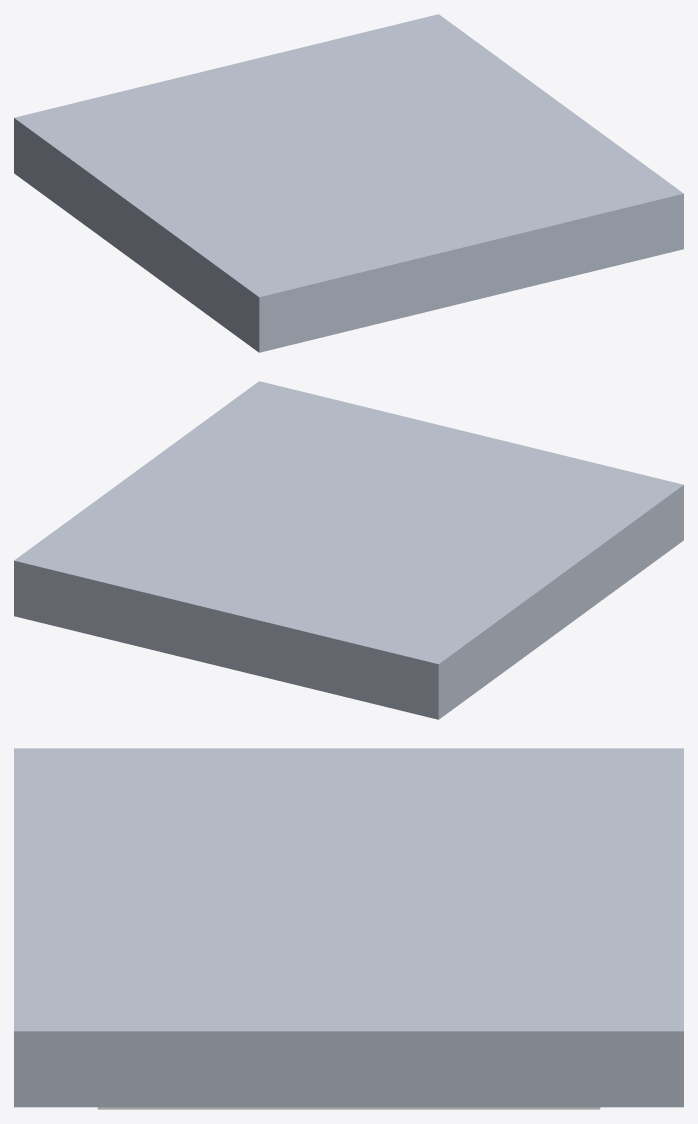
The model's file is Light.fbx.
The picture shows the model from 3 angles, top to bottom: view 1: azimuth 30°, elevation 25°; view 2: azimuth 150°, elevation 25°; view 3: azimuth 270°, elevation 25°; orthographic projection. The views are drawn at different scales.
Parts seen in each view (by area): view 1: cube_1; view 2: cube_1; view 3: cube_1, cube.
Boxes of the visible parts, x1,y1,x2,y2 form: cube_1: [14, 14, 683, 352]; cube_1: [14, 381, 683, 719]; cube_1: [14, 748, 683, 1107]; cube: [97, 1107, 600, 1109].
Size of the model in its own units: 100 by 18.75 by 100.
Materials: 1 (1 with a texture image).
